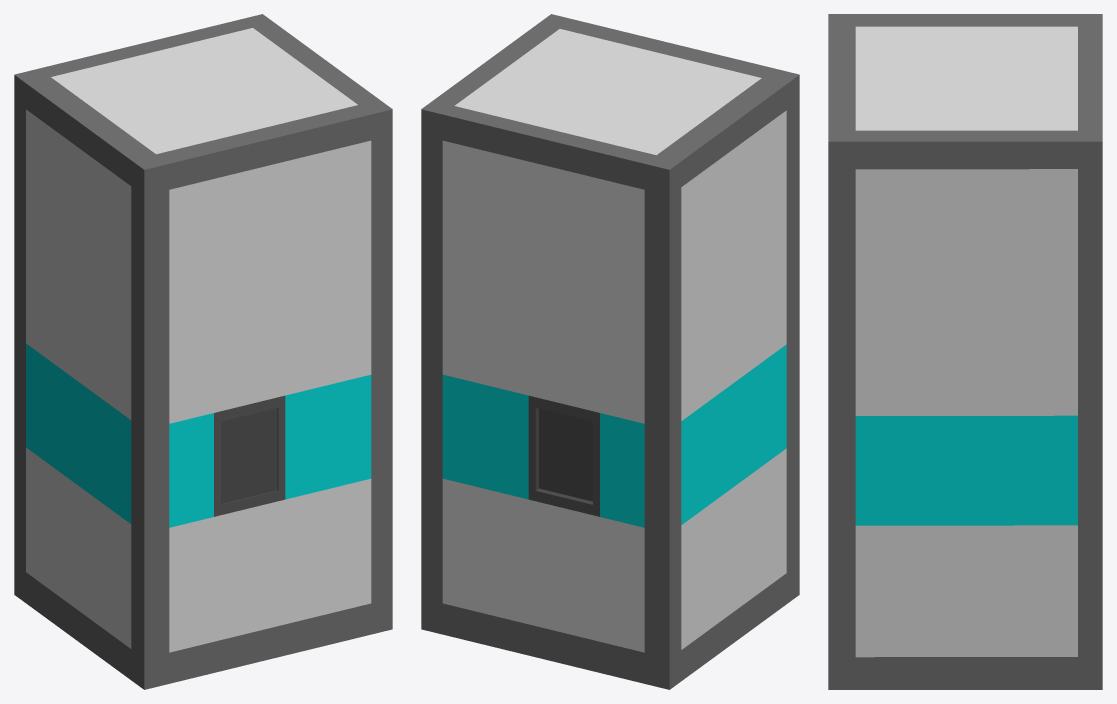
Rendered from porte_2_repar.fbx.
3 views of the same model, side by side, from view 1: azimuth 30°, elevation 25°; view 2: azimuth 150°, elevation 25°; view 3: azimuth 270°, elevation 25° (orthographic). The views are drawn at different scales.
Parts seen in each view (by area): view 1: pCube90; view 2: pCube90; view 3: pCube90.
Boxes of the visible parts, <box> form: pCube90: <box>14,14,392,689</box>; pCube90: <box>421,14,799,689</box>; pCube90: <box>828,14,1102,689</box>.
Bounding box in the file's own units: 0.5003 × 1 × 0.4537.
